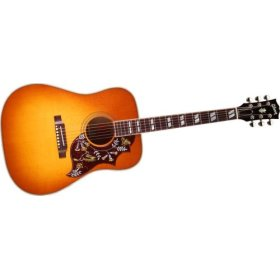guitar: (1, 84, 280, 195)
